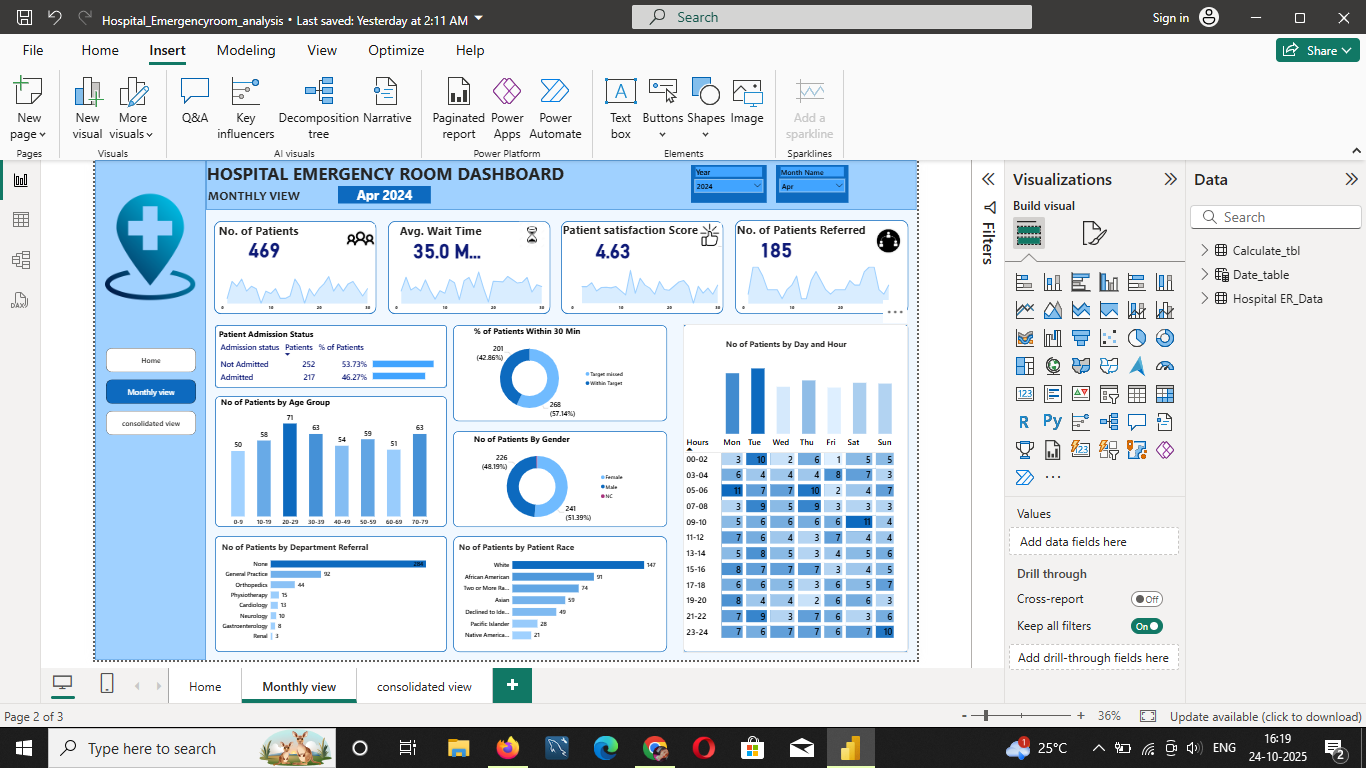

This screenshot's page, from the dashboard's own definition file:
{"tool":"powerbi","page":{"name":"Monthly view","canvas":[2300,1400],"ordinal":0},"visuals":[{"type":"shape","box":[0,0,310,1400.5],"z":0},{"type":"shape","box":[310.9,0,1989.1,140],"z":1000},{"type":"textbox","box":[309.1,0,1078.8,118.2],"z":2000},{"type":"textbox","box":[312.1,69.7,297,78.8],"z":3000},{"type":"shape","box":[819.2,169.7,455,260.6],"z":4000},{"type":"slicer","fields":{"Values":["Date_table.Year"]},"box":[1669.7,15.2,212.1,106.1],"z":5000},{"type":"slicer","fields":{"Values":["Date_table.Month_name"]},"box":[1906.1,15.2,203,106.1],"z":6000},{"type":"card","fields":{"Values":["Min(Date_table.Month & Year)"]},"box":[680,71.4,260,48.6],"z":7000},{"type":"shape","box":[333.3,169.7,455,260.6],"z":8000},{"type":"shape","box":[1305.1,169.7,455,260.6],"z":9000},{"type":"card","fields":{"Values":["Hospital ER_Data.No of Patients"]},"box":[409.1,203,130.3,81.8],"z":10000},{"type":"textbox","box":[342.4,169.7,266.7,75.8],"z":11000},{"type":"areaChart","fields":{"Category":["Date_table.Date.Variation.Date Hierarchy.Day"],"Y":["Hospital ER_Data.No of Patients"]},"box":[342.4,284.8,436.4,145.5],"z":12000},{"type":"shape","box":[1791.4,168.6,485.7,262.9],"z":13000},{"type":"textbox","box":[848.5,169.7,275.8,57.6],"z":14000},{"type":"textbox","box":[1305.7,168.6,402.9,71.4],"z":15000},{"type":"textbox","box":[1791.4,168.6,377.1,60],"z":16000},{"type":"card","fields":{"Values":["Hospital ER_Data.Avg. wait time"]},"box":[882,207.2,207.2,81.2],"z":17000},{"type":"card","fields":{"Values":["Hospital ER_Data.Satisfaction score"]},"box":[1386,207.2,128.8,81.2],"z":18000},{"type":"card","fields":{"Values":["Hospital ER_Data.No of patients referred"]},"box":[1842.4,204.4,128.8,81.2],"z":19000},{"type":"areaChart","fields":{"Category":["Date_table.Date.Variation.Date Hierarchy.Day"],"Y":["Avg(Hospital ER_Data.Patient Waittime)"]},"box":[828.8,285.6,436.8,145.6],"z":20000},{"type":"areaChart","fields":{"Category":["Date_table.Date.Variation.Date Hierarchy.Day"],"Y":["Hospital ER_Data.Satisfaction score"]},"box":[1321.6,285.6,436.8,145.6],"z":21000},{"type":"areaChart","fields":{"Category":["Date_table.Date.Variation.Date Hierarchy.Day"],"Y":["Hospital ER_Data.No of patients referred"]},"box":[1800.4,285.6,436.8,145.6],"z":22000},{"type":"shape","box":[336,462,649.6,176.4],"z":23000},{"type":"pivotTable","title":"Patient Admission Status","fields":{"Rows":["Hospital ER_Data.Admission status"],"Values":["Calculate_tbl.No of Patients","Divide(Calculate_tbl.No of Patients, ScopedEval(Calculate_tbl.No of Patients, []))"]},"box":[341.6,470.4,431.2,168],"z":24000},{"type":"barChart","fields":{"Y":["Calculate_tbl.No of Patients"],"Category":["Hospital ER_Data.Admission status"]},"box":[772.8,532,212.8,106.4],"z":25000},{"type":"shape","box":[336,660.8,649.6,366.8],"z":26000},{"type":"clusteredColumnChart","title":"No of Patients by Age Group","fields":{"Category":["Hospital ER_Data.Age_group"],"Y":["Calculate_tbl.No of Patients"]},"box":[348.6,660,617.1,374.3],"z":27000},{"type":"shape","box":[336,1052.8,649.6,324.8],"z":28000},{"type":"clusteredBarChart","fields":{"Category":["Hospital ER_Data.Department Referral"],"Y":["Calculate_tbl.No of Patients"]},"box":[350,1066.8,616,294],"z":29000},{"type":"shape","box":[1002.4,462,600,270],"z":30000},{"type":"shape","box":[1002.8,758.3,600,269.4],"z":31000},{"type":"donutChart","title":"% of Patients Within 30 Min","fields":{"Category":["Hospital ER_Data.Waittime status"],"Y":["Calculate_tbl.No of Patients"]},"box":[1054.3,462.9,437.1,268.6],"z":32000},{"type":"donutChart","title":"No of Patients By Gender","fields":{"Y":["Calculate_tbl.No of Patients"],"Category":["Hospital ER_Data.Patient Gender"]},"box":[1055.6,763.9,436.1,269.4],"z":33000},{"type":"shape","box":[1002.9,1051.4,600,325.7],"z":34000},{"type":"clusteredBarChart","fields":{"Y":["Calculate_tbl.No of Patients"],"Category":["Hospital ER_Data.Patient Race"]},"box":[1014.3,1065.7,568.6,294.3],"z":35000},{"type":"shape","box":[1645.7,460,631.4,920],"z":36000},{"type":"pivotTable","fields":{"Columns":["Date_table.Day name"],"Rows":["Hospital ER_Data.Waititme interal"],"Values":["Calculate_tbl.No of Patients"]},"box":[1645.7,768.6,631.4,591.4],"z":37000},{"type":"columnChart","title":"No of Patients by Day and Hour","fields":{"Y":["Calculate_tbl.No of Patients"],"Category":["Date_table.Day name"]},"box":[1760,497.1,477.1,274.3],"z":38000},{"type":"image","box":[0,60,308.6,368.6],"z":39000},{"type":"image","box":[697.1,168.6,91.4,82.9],"z":40000},{"type":"image","box":[1682.9,168.6,77.1,82.9],"z":41000},{"type":"image","box":[1174.3,168.6,100,82.9],"z":42000},{"type":"image","box":[2168.6,168.6,108.6,117.1],"z":43000},{"type":"pageNavigator","box":[30.8,526.4,252,246.4],"z":44000}]}

Visuals, with their boxes on the page's 2300x1400 design canvas (x1, y1, x2, y2). These are canvas units, not pixel positions in the 1366x768 screenshot, which may show the page scaled, cropped or inside an application window:
shape: locate(0, 0, 310, 1400)
shape: locate(311, 0, 2300, 140)
textbox: locate(309, 0, 1388, 118)
textbox: locate(312, 70, 609, 148)
shape: locate(819, 170, 1274, 430)
slicer - Date_table.Year: locate(1670, 15, 1882, 121)
slicer - Date_table.Month_name: locate(1906, 15, 2109, 121)
card - Min(Date_table.Month & Year): locate(680, 71, 940, 120)
shape: locate(333, 170, 788, 430)
shape: locate(1305, 170, 1760, 430)
card - Hospital ER_Data.No of Patients: locate(409, 203, 539, 285)
textbox: locate(342, 170, 609, 246)
areaChart - Date_table.Date.Variation.Date Hierarchy.Day x Hospital ER_Data.No of Patients: locate(342, 285, 779, 430)
shape: locate(1791, 169, 2277, 432)
textbox: locate(848, 170, 1124, 227)
textbox: locate(1306, 169, 1709, 240)
textbox: locate(1791, 169, 2168, 229)
card - Hospital ER_Data.Avg. wait time: locate(882, 207, 1089, 288)
card - Hospital ER_Data.Satisfaction score: locate(1386, 207, 1515, 288)
card - Hospital ER_Data.No of patients referred: locate(1842, 204, 1971, 286)
areaChart - Date_table.Date.Variation.Date Hierarchy.Day x Avg(Hospital ER_Data.Patient Waittime): locate(829, 286, 1266, 431)
areaChart - Date_table.Date.Variation.Date Hierarchy.Day x Hospital ER_Data.Satisfaction score: locate(1322, 286, 1758, 431)
areaChart - Date_table.Date.Variation.Date Hierarchy.Day x Hospital ER_Data.No of patients referred: locate(1800, 286, 2237, 431)
shape: locate(336, 462, 986, 638)
"Patient Admission Status" pivotTable: locate(342, 470, 773, 638)
barChart - Calculate_tbl.No of Patients x Hospital ER_Data.Admission status: locate(773, 532, 986, 638)
shape: locate(336, 661, 986, 1028)
"No of Patients by Age Group" clusteredColumnChart: locate(349, 660, 966, 1034)
shape: locate(336, 1053, 986, 1378)
clusteredBarChart - Hospital ER_Data.Department Referral x Calculate_tbl.No of Patients: locate(350, 1067, 966, 1361)
shape: locate(1002, 462, 1602, 732)
shape: locate(1003, 758, 1603, 1028)
"% of Patients Within 30 Min" donutChart: locate(1054, 463, 1491, 732)
"No of Patients By Gender" donutChart: locate(1056, 764, 1492, 1033)
shape: locate(1003, 1051, 1603, 1377)
clusteredBarChart - Calculate_tbl.No of Patients x Hospital ER_Data.Patient Race: locate(1014, 1066, 1583, 1360)
shape: locate(1646, 460, 2277, 1380)
pivotTable - Date_table.Day name x Hospital ER_Data.Waititme interal: locate(1646, 769, 2277, 1360)
"No of Patients by Day and Hour" columnChart: locate(1760, 497, 2237, 771)
image: locate(0, 60, 309, 429)
image: locate(697, 169, 788, 252)
image: locate(1683, 169, 1760, 252)
image: locate(1174, 169, 1274, 252)
image: locate(2169, 169, 2277, 286)
pageNavigator: locate(31, 526, 283, 773)
